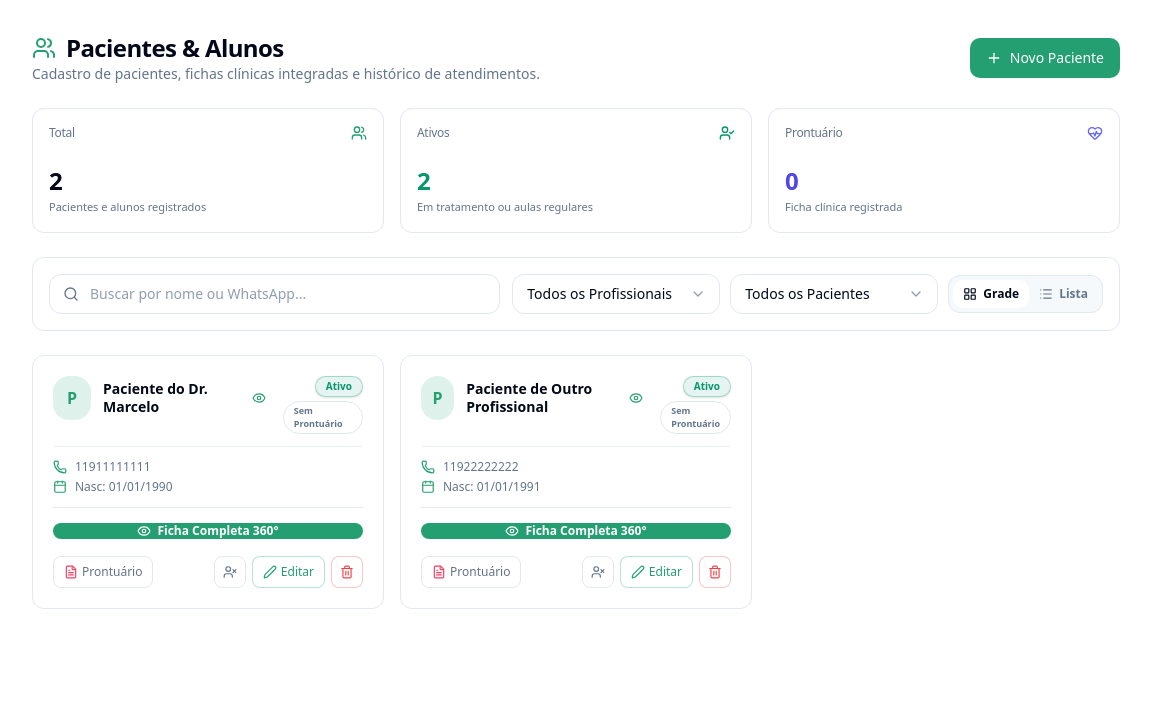
Scenario: admin sees professional selector dropdown and can view all or specific professional patients
Expected: the heading "Paciente do Dr. Marcelo" is shown, [103,379,208,416]
Expected: the heading "Paciente de Outro Profissional" is shown, [466,379,592,416]
Seleciona Dr. Marcelo
Select "Dr. Marcelo" in the 1st dropdown showing "Todos os Profissionais" at (616,294), box [512,274,720,314]
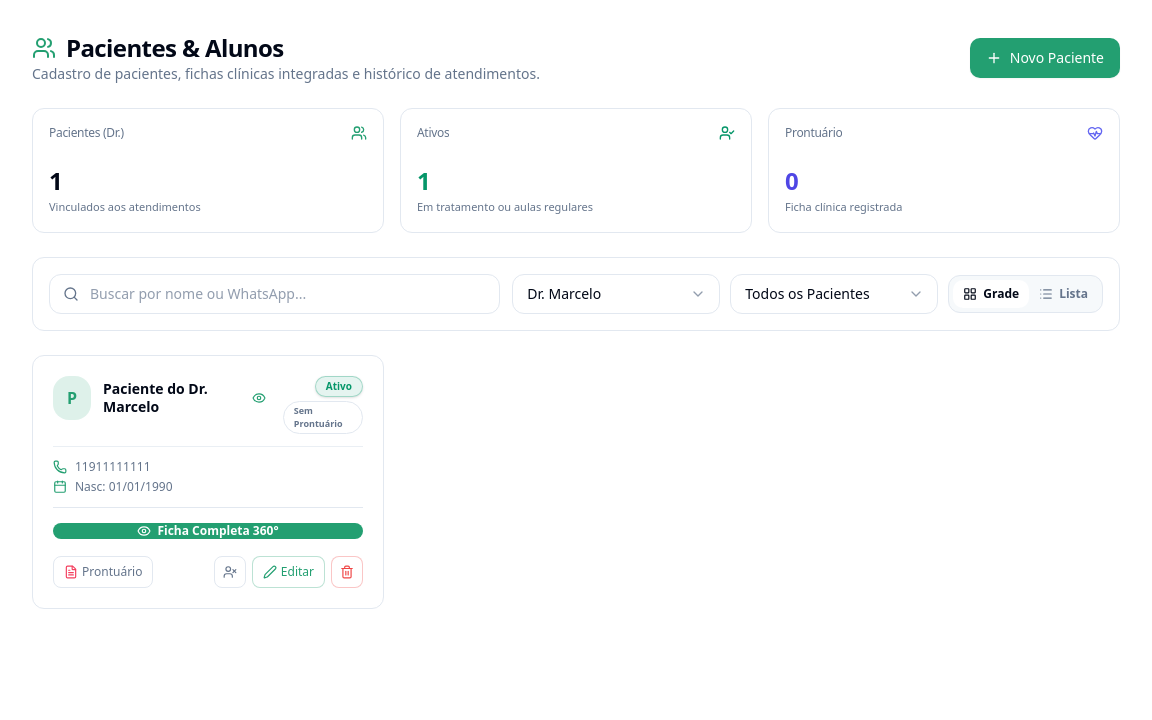
Expected: the heading "Paciente do Dr. Marcelo" is shown, [103,379,208,416]
Expected: the heading "Paciente de Outro Profissional" is gone
